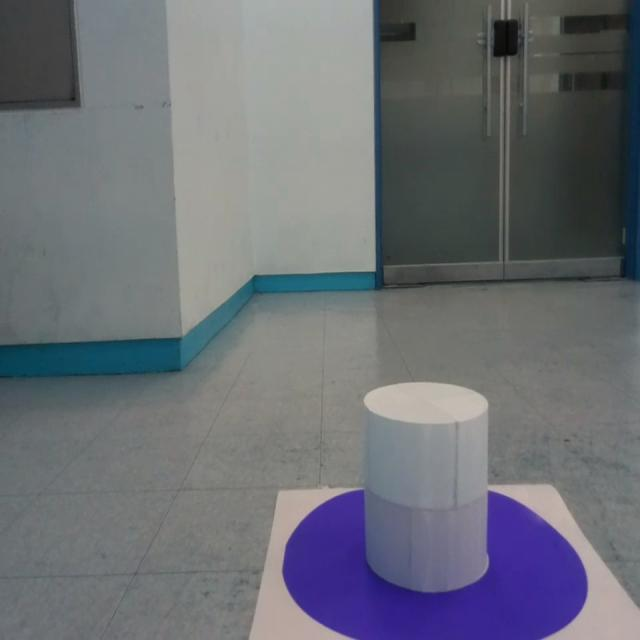cylinder: (362, 382, 491, 594)
